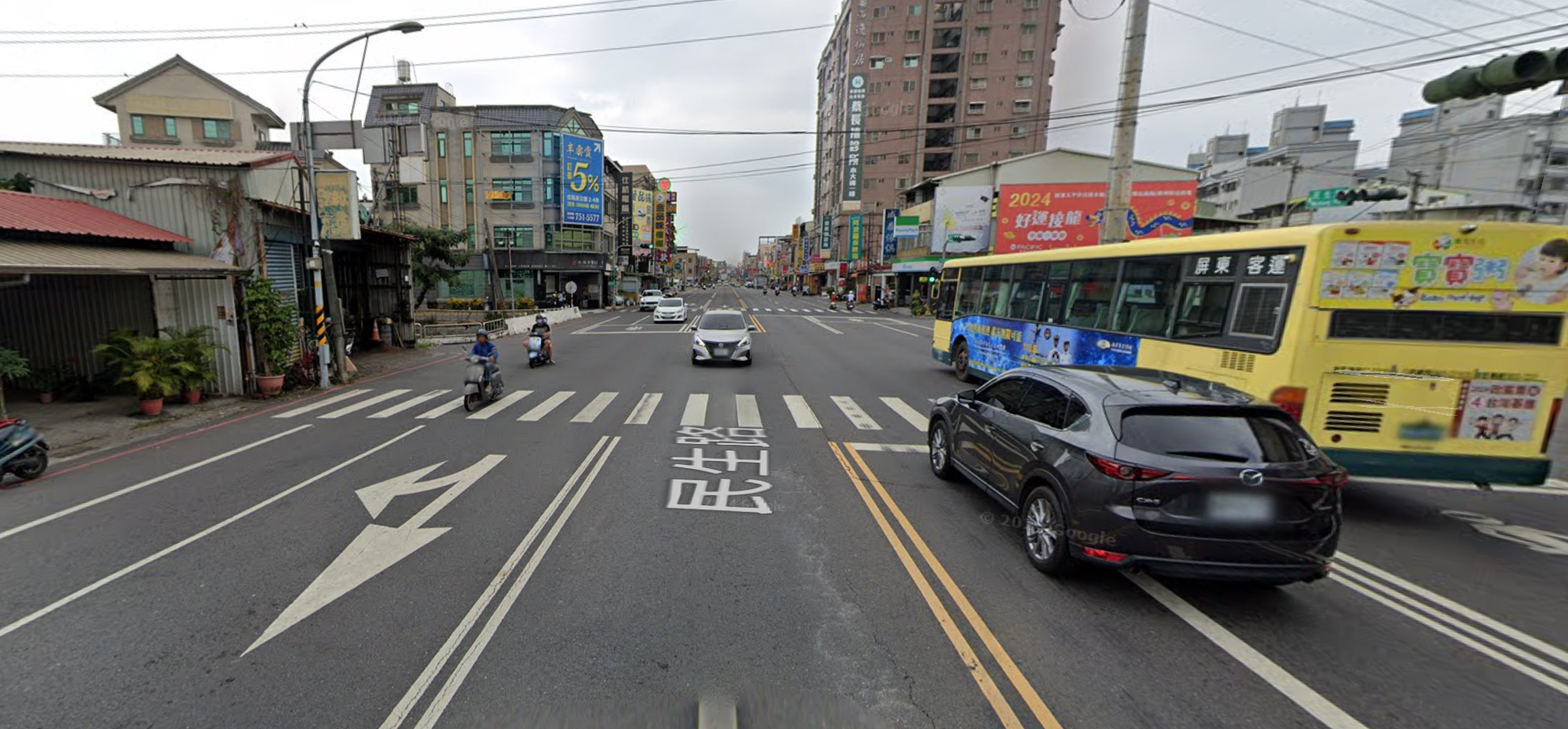green: (641, 241, 653, 249)
